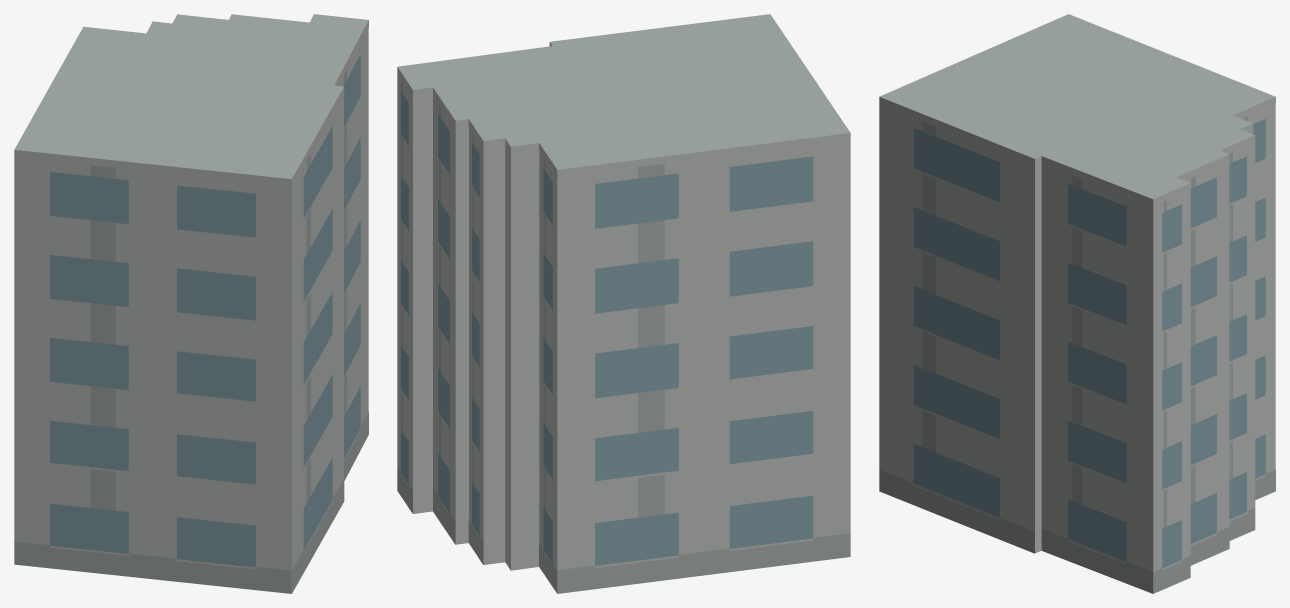
File: survey-upis-32651875.glb
3 views of the same model, side by side, from view 1: azimuth 30°, elevation 25°; view 2: azimuth 150°, elevation 25°; view 3: azimuth 270°, elevation 25° (orthographic). The views are drawn at different scales.
Visible parts, largest first — view 1: survey-upis-32651875.tmp; view 2: survey-upis-32651875.tmp; view 3: survey-upis-32651875.tmp.
Part boxes in pixels (x1,y1,x2,y2): survey-upis-32651875.tmp: (14,14,368,593); survey-upis-32651875.tmp: (397,14,850,593); survey-upis-32651875.tmp: (879,14,1275,593).
Bounding box in the file's own units: 13.5 × 13.4 × 12.21.
